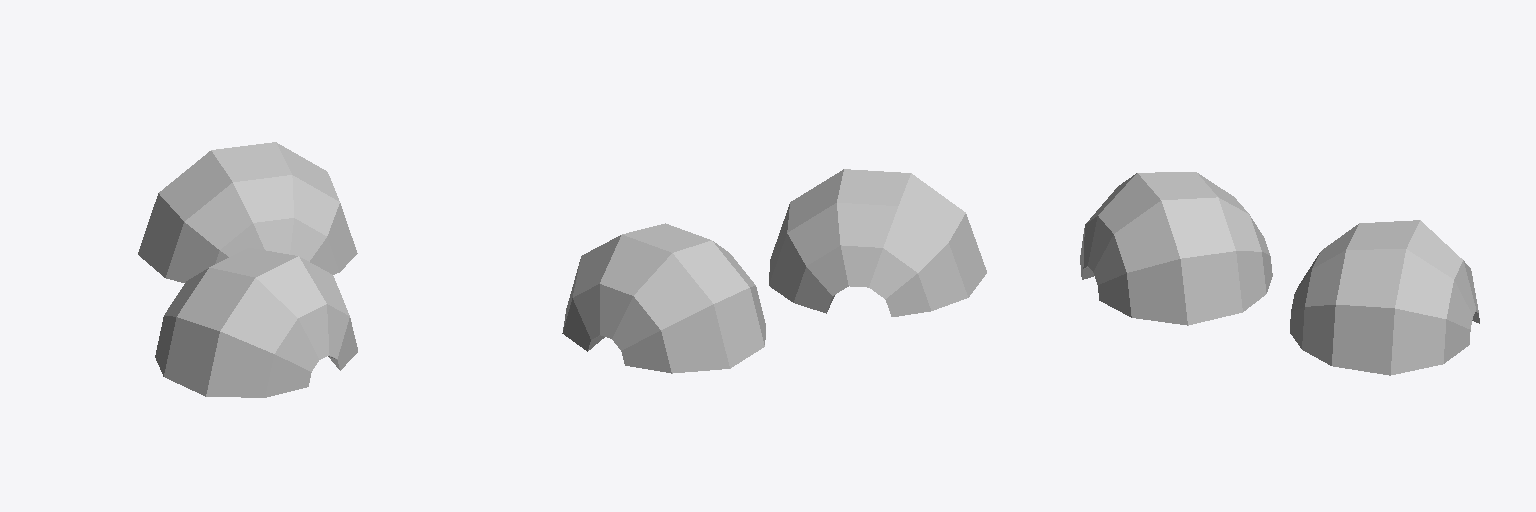
Rendered from onion_chop_1.obj.
3 renders of one model, left to right at view 1: azimuth 30°, elevation 25°; view 2: azimuth 150°, elevation 25°; view 3: azimuth 270°, elevation 25°, orthographic.
Visible parts, largest first — view 1: Onion1_Whole2 Chop_1 Onion2, Chop_1 Onion2 Onion1_Whole3; view 2: Onion1_Whole2 Chop_1 Onion2, Chop_1 Onion2 Onion1_Whole3; view 3: Onion1_Whole2 Chop_1 Onion2, Chop_1 Onion2 Onion1_Whole3.
Boxes of the visible parts, x1,y1,x2,y2 form: Onion1_Whole2 Chop_1 Onion2: [155, 248, 357, 397]; Chop_1 Onion2 Onion1_Whole3: [138, 142, 357, 282]; Onion1_Whole2 Chop_1 Onion2: [769, 169, 986, 316]; Chop_1 Onion2 Onion1_Whole3: [562, 223, 765, 373]; Onion1_Whole2 Chop_1 Onion2: [1080, 172, 1272, 325]; Chop_1 Onion2 Onion1_Whole3: [1290, 220, 1479, 375].
Bounding box in the file's own units: 0.6553 × 0.2065 × 0.7754.